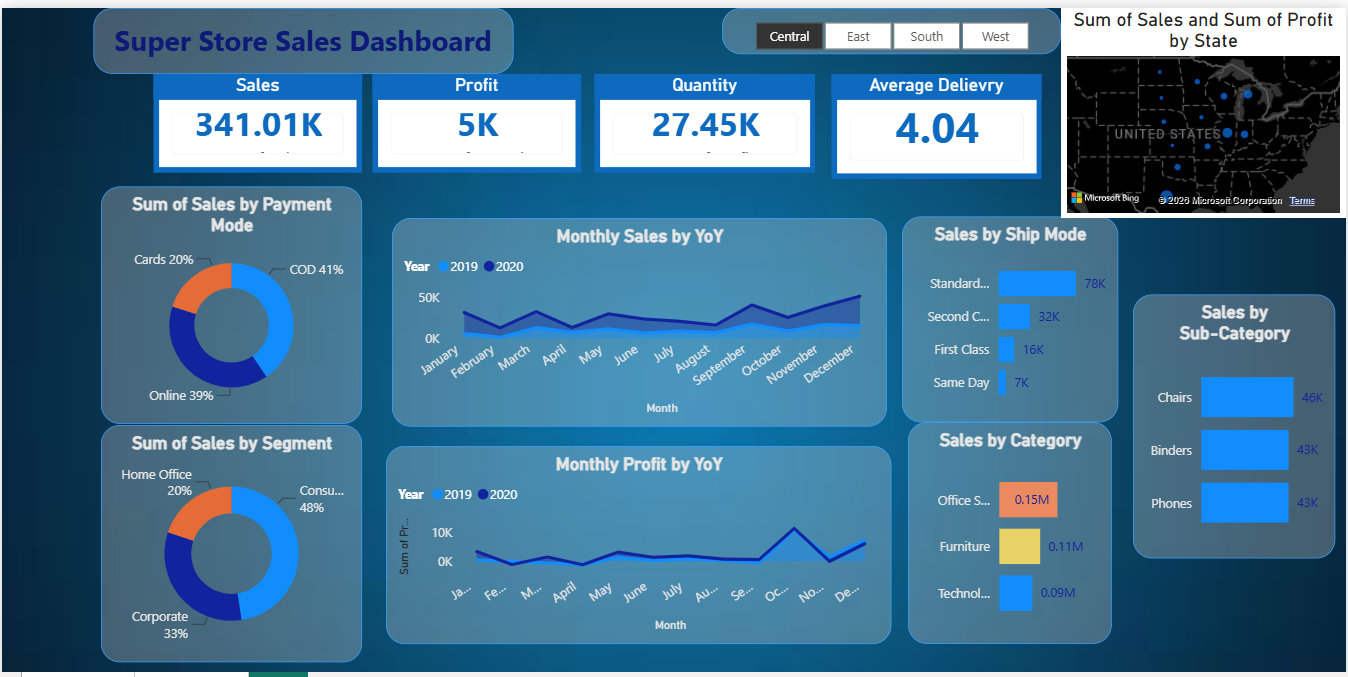

What the dashboard file says about the page in this screenshot:
{"tool":"powerbi","page":{"name":"Page 1","canvas":[1280,720],"ordinal":0},"visuals":[{"type":"clusteredBarChart","title":"Sales by Category","fields":{"Category":["SuperStore_Sales_Dataset (1).Category"],"Y":["Sum(SuperStore_Sales_Dataset (1).Sales)"]},"box":[862.9,394.3,194.3,211.4],"z":0},{"type":"clusteredBarChart","title":"Sales by Sub-Category","fields":{"Category":["SuperStore_Sales_Dataset (1).Sub-Category"],"Y":["Sum(SuperStore_Sales_Dataset (1).Sales)"]},"box":[1077.1,272.9,192.9,251.4],"z":1000},{"type":"clusteredBarChart","title":"Sales by Ship Mode","fields":{"Category":["SuperStore_Sales_Dataset (1).Ship Mode"],"Y":["Sum(SuperStore_Sales_Dataset (1).Sales)"]},"box":[857.1,198.6,205.7,195.7],"z":2000},{"type":"stackedAreaChart","title":"Monthly Sales by YoY","fields":{"Y":["Sum(SuperStore_Sales_Dataset (1).Sales)"],"Category":["SuperStore_Sales_Dataset (1).Order Date.Variation.Date Hierarchy.Month"],"Series":["SuperStore_Sales_Dataset (1).Order Date.Variation.Date Hierarchy.Year"]},"box":[371.4,200,471.4,198.6],"z":3000},{"type":"stackedAreaChart","title":"Monthly Profit by YoY","fields":{"Category":["SuperStore_Sales_Dataset (1).Order Date.Variation.Date Hierarchy.Month"],"Series":["SuperStore_Sales_Dataset (1).Order Date.Variation.Date Hierarchy.Year"],"Y":["Sum(SuperStore_Sales_Dataset (1).Profit)"]},"box":[365.7,417.1,481.4,188.6],"z":4000},{"type":"map","fields":{"Category":["SuperStore_Sales_Dataset (1).State"],"Size":["Sum(SuperStore_Sales_Dataset (1).Sales)"]},"box":[1008.6,0,271.4,200],"z":5000},{"type":"donutChart","fields":{"Category":["SuperStore_Sales_Dataset (1).Segment"],"Y":["Sum(SuperStore_Sales_Dataset (1).Sales)"]},"box":[94.3,397.1,248.6,225.7],"z":6000},{"type":"donutChart","fields":{"Category":["SuperStore_Sales_Dataset (1).Payment Mode"],"Y":["Sum(SuperStore_Sales_Dataset (1).Sales)"]},"box":[94.3,170,248.6,225.7],"z":7000},{"type":"slicer","fields":{"Values":["SuperStore_Sales_Dataset (1).Region"]},"box":[685.7,0,322.9,44.3],"z":8000},{"type":"textbox","box":[87.1,0,400,62.9],"z":9000},{"type":"cardVisual","title":"Sales","fields":{"Data":["Sum(SuperStore_Sales_Dataset (1).Sales)"]},"box":[144.3,62.9,198.6,94.3],"z":10000},{"type":"cardVisual","title":"Profit","fields":{"Data":["Sum(SuperStore_Sales_Dataset (1).Quantity)"]},"box":[352.9,62.9,198.6,94.3],"z":11000},{"type":"cardVisual","title":"Quantity","fields":{"Data":["Sum(SuperStore_Sales_Dataset (1).Profit)"]},"box":[564.3,62.9,210,94.3],"z":12000},{"type":"cardVisual","title":"Average Delievry","fields":{"Data":["Avg(SuperStore_Sales_Dataset (1).averagedelievry)"]},"box":[790,62.9,200,100],"z":13000}]}

Visuals, with their boxes on the page's 1280x720 design canvas (x1, y1, x2, y2). These are canvas units, not pixel positions in the 1348x677 screenshot, which may show the page scaled, cropped or inside an application window:
"Sales by Category" clusteredBarChart: rect(863, 394, 1057, 606)
"Sales by Sub-Category" clusteredBarChart: rect(1077, 273, 1270, 524)
"Sales by Ship Mode" clusteredBarChart: rect(857, 199, 1063, 394)
"Monthly Sales by YoY" stackedAreaChart: rect(371, 200, 843, 399)
"Monthly Profit by YoY" stackedAreaChart: rect(366, 417, 847, 606)
map - SuperStore_Sales_Dataset (1).State x Sum(SuperStore_Sales_Dataset (1).Sales): rect(1009, 0, 1280, 200)
donutChart - SuperStore_Sales_Dataset (1).Segment x Sum(SuperStore_Sales_Dataset (1).Sales): rect(94, 397, 343, 623)
donutChart - SuperStore_Sales_Dataset (1).Payment Mode x Sum(SuperStore_Sales_Dataset (1).Sales): rect(94, 170, 343, 396)
slicer - SuperStore_Sales_Dataset (1).Region: rect(686, 0, 1009, 44)
textbox: rect(87, 0, 487, 63)
"Sales" cardVisual: rect(144, 63, 343, 157)
"Profit" cardVisual: rect(353, 63, 552, 157)
"Quantity" cardVisual: rect(564, 63, 774, 157)
"Average Delievry" cardVisual: rect(790, 63, 990, 163)
